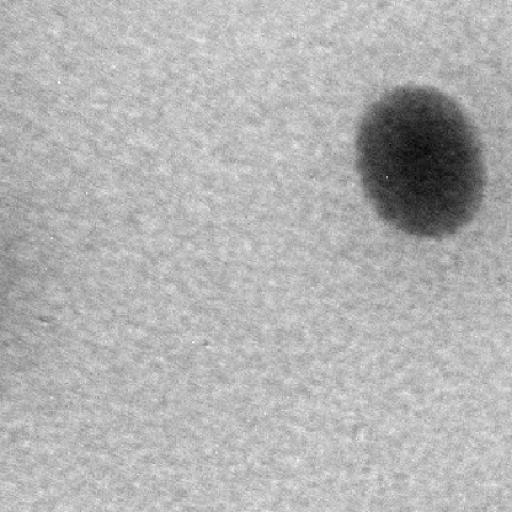Nanoparticles: (359, 90, 486, 238)
